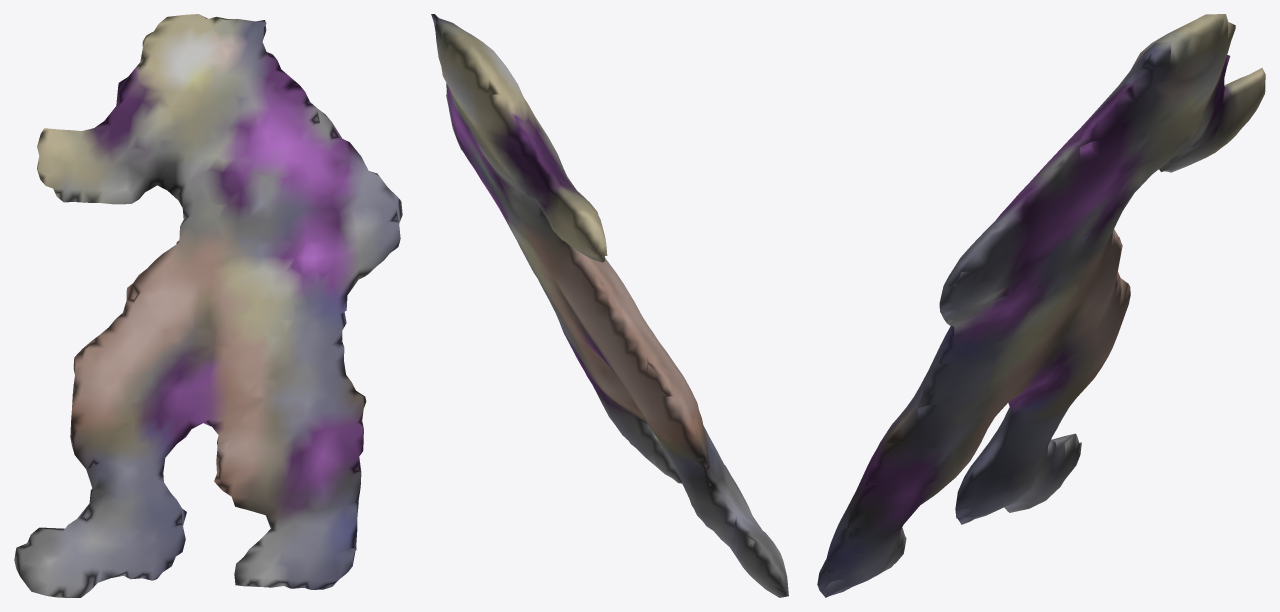
The model's file is yuri_clone.glb.
The picture shows the model from 3 angles, left to right: view 1: azimuth 30°, elevation 25°; view 2: azimuth 150°, elevation 25°; view 3: azimuth 270°, elevation 25°; orthographic projection. The views are drawn at different scales.
Parts seen in each view (by area): view 1: yuri_clone; view 2: yuri_clone; view 3: yuri_clone.
Part boxes in pixels (bbox=[...]): yuri_clone: bbox=[14, 14, 402, 597]; yuri_clone: bbox=[431, 14, 788, 597]; yuri_clone: bbox=[817, 14, 1265, 597].
Size of the model in its own units: 1.46 by 1.98 by 1.31.
